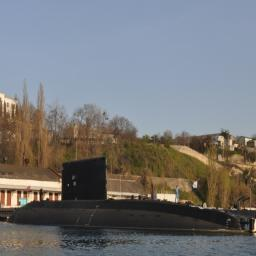submarine: (7, 157, 254, 223)
